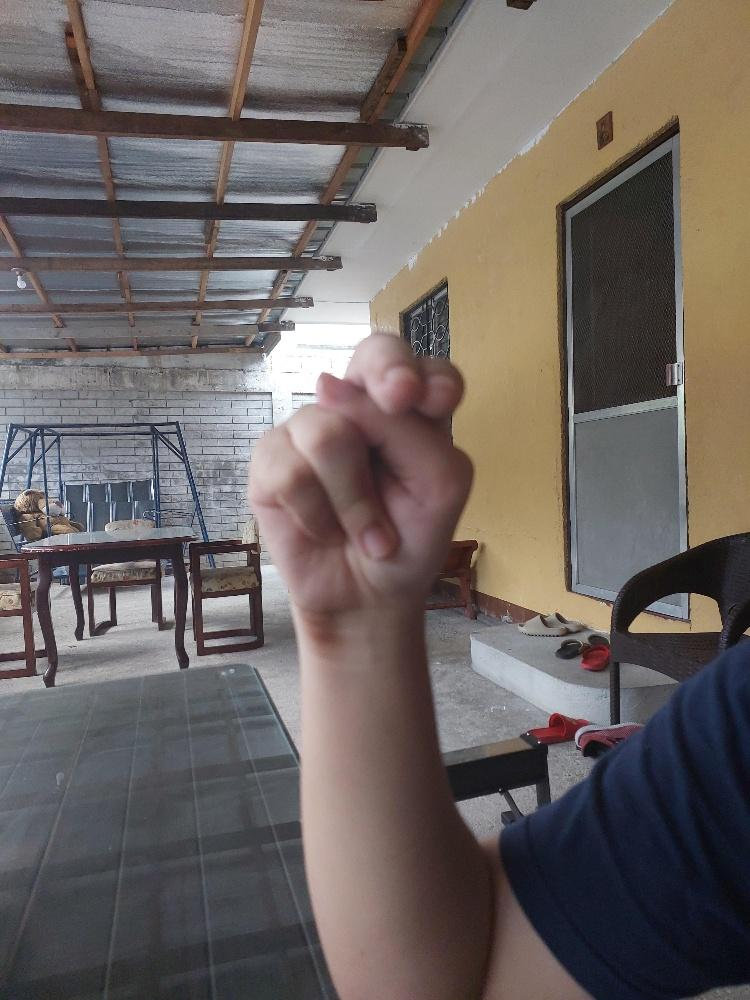n: (243, 325, 479, 619)
